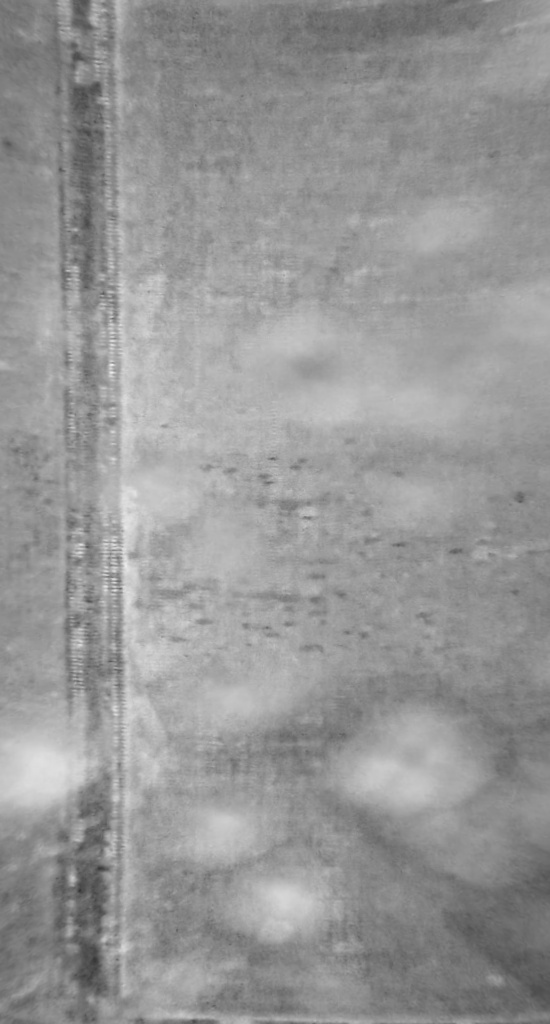splice: (40, 2, 137, 1024)
